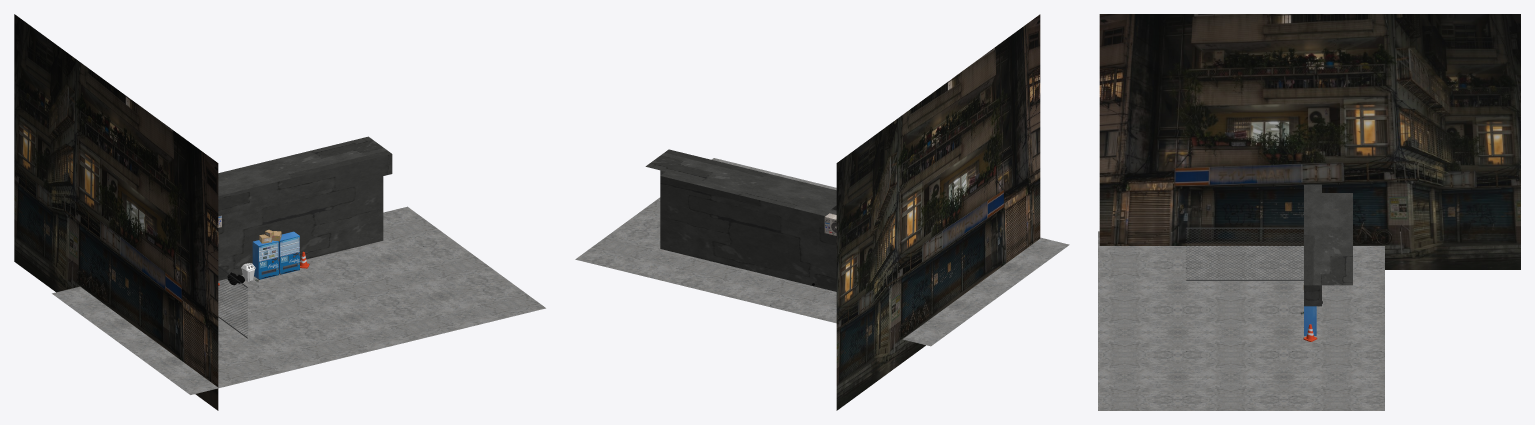
The model's file is jihanki_mobile.glb.
The picture shows the model from 3 angles, left to right: view 1: azimuth 30°, elevation 25°; view 2: azimuth 150°, elevation 25°; view 3: azimuth 270°, elevation 25°; orthographic projection. The views are drawn at different scales.
Visible parts, largest first — view 1: tatemono, 平面.002, 平面.004, fence, jihank_hontai, jihanki_hontai2; view 2: tatemono, 平面.004, 平面.002; view 3: tatemono, 平面.002, 平面.004, fence.
Boxes of the visible parts, x1,y1,x2,y2 form: tatemono: [14, 14, 218, 410]; 平面.002: [52, 206, 545, 394]; 平面.004: [218, 136, 392, 280]; fence: [218, 266, 247, 338]; jihank_hontai: [252, 240, 278, 279]; jihanki_hontai2: [279, 231, 299, 274]; tatemono: [836, 14, 1040, 410]; 平面.004: [645, 149, 836, 291]; 平面.002: [575, 158, 1069, 346]; tatemono: [1099, 14, 1520, 269]; 平面.002: [1098, 231, 1384, 410]; 平面.004: [1304, 184, 1352, 306]; fence: [1186, 227, 1303, 280].
Size of the model in its own units: 51.61 by 34.33 by 51.39.
28 materials, 20 textured.
